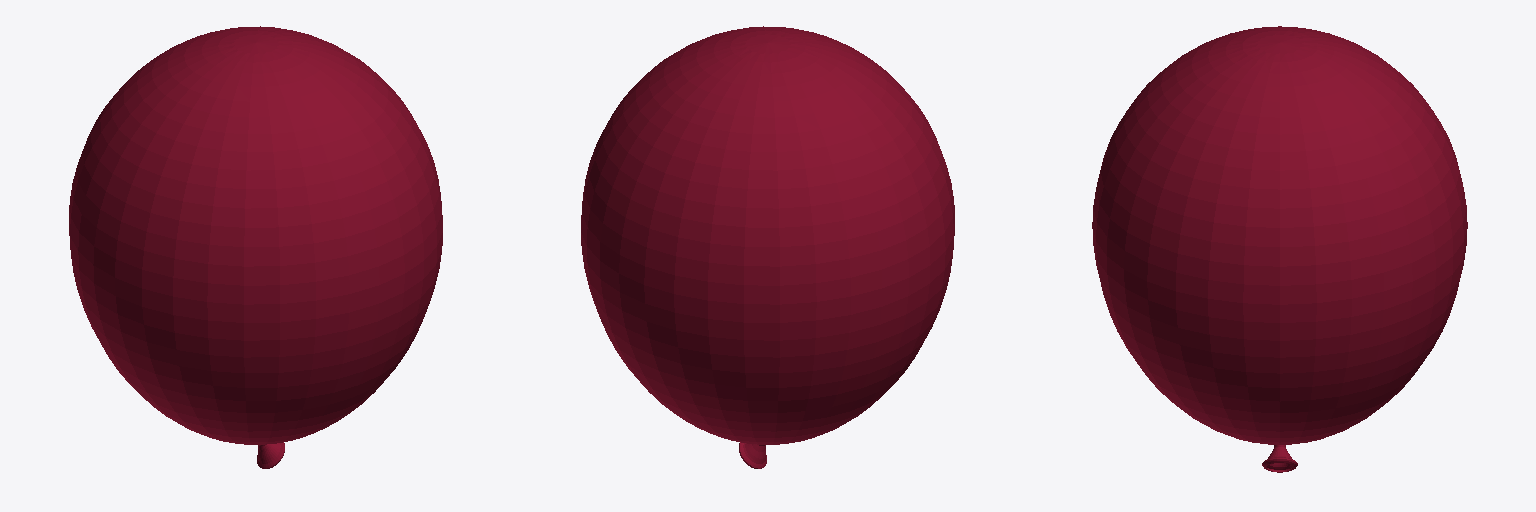
The model's file is balloon_scene.obj.
The picture shows the model from 3 angles: view 1: azimuth 30°, elevation 25°; view 2: azimuth 150°, elevation 25°; view 3: azimuth 270°, elevation 25°; orthographic projection.
Visible parts, largest first — view 1: balloon1_Sphere.006; view 2: balloon1_Sphere.006; view 3: balloon1_Sphere.006.
Part boxes in pixels (x1,y1,x2,y2): balloon1_Sphere.006: (69,26,442,468); balloon1_Sphere.006: (581,26,954,468); balloon1_Sphere.006: (1092,26,1467,472).
Bounding box in the file's own units: 0.3069 × 0.3849 × 0.3069.